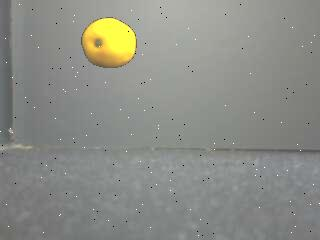Lemon: (80, 17, 137, 69)
